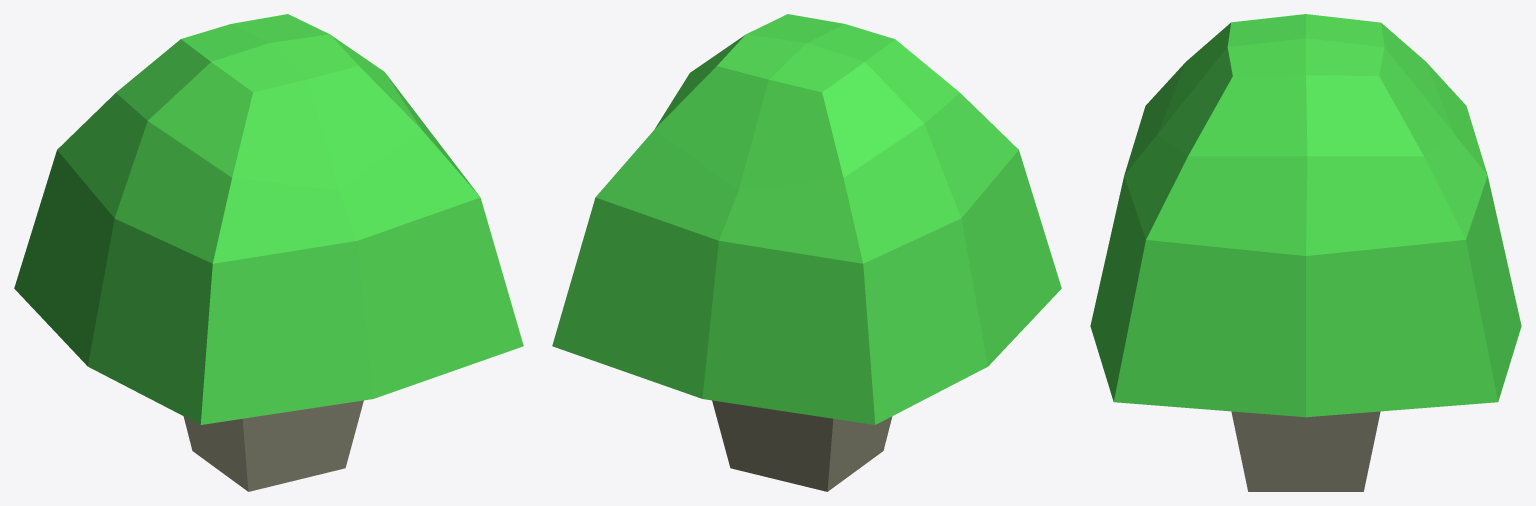
File: Mushroom 2.fbx
The picture shows the model from 3 angles, left to right: view 1: azimuth 30°, elevation 25°; view 2: azimuth 150°, elevation 25°; view 3: azimuth 270°, elevation 25°; orthographic projection. The views are drawn at different scales.
Parts seen in each view (by area): view 1: Cube.001; view 2: Cube.001; view 3: Cube.001.
Part boxes in pixels (x1,y1,x2,y2): Cube.001: [14, 14, 523, 491]; Cube.001: [552, 14, 1061, 491]; Cube.001: [1090, 14, 1521, 491].
Bounding box in the file's own units: 1.07 × 1.07 × 1.18.
